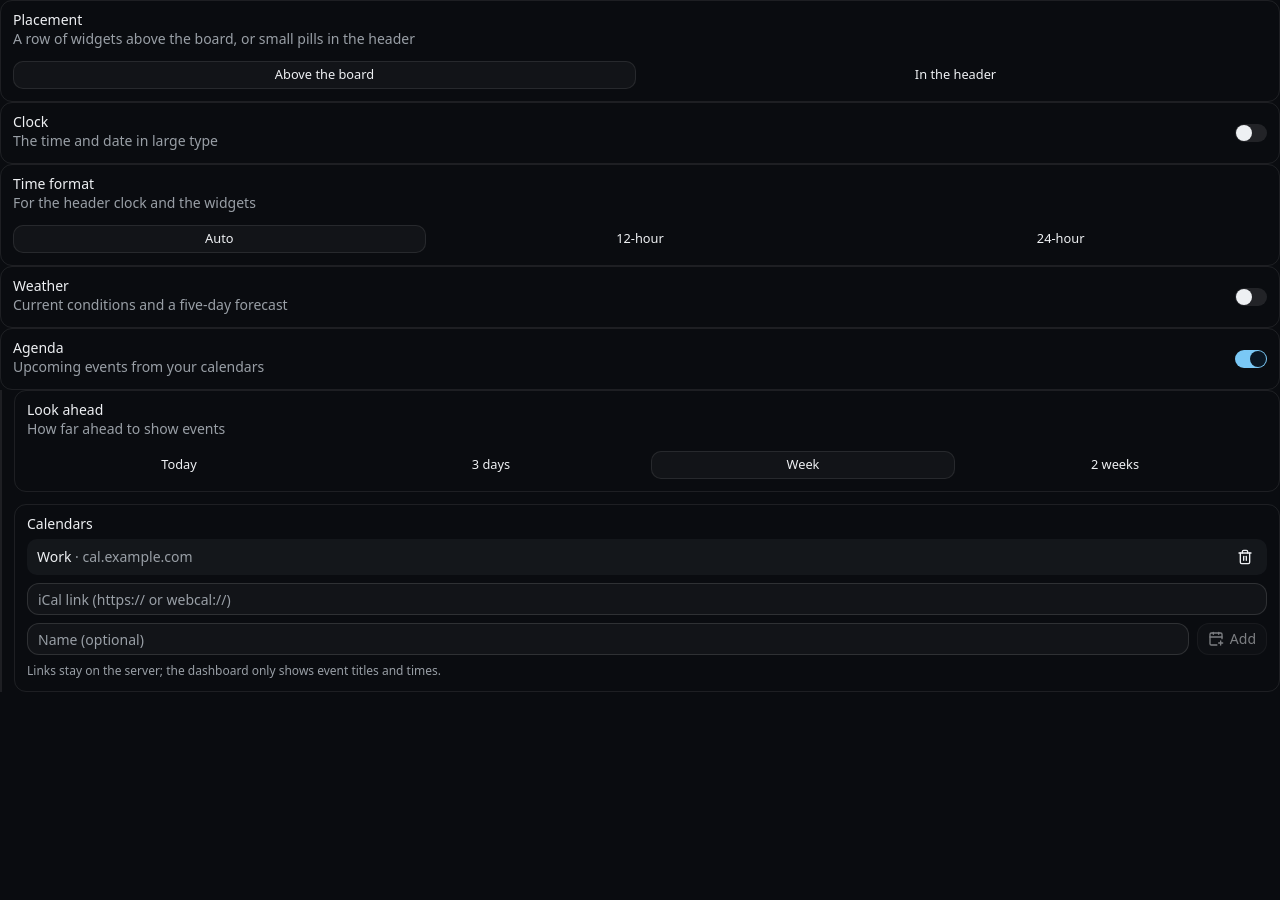
it: WidgetSettings › shows why a calendar couldn't be added
Type "https://cal.example.com/x.ics" into the field named "Calendar link" at (647, 599), box x1=27 y1=583 x2=1267 y2=615
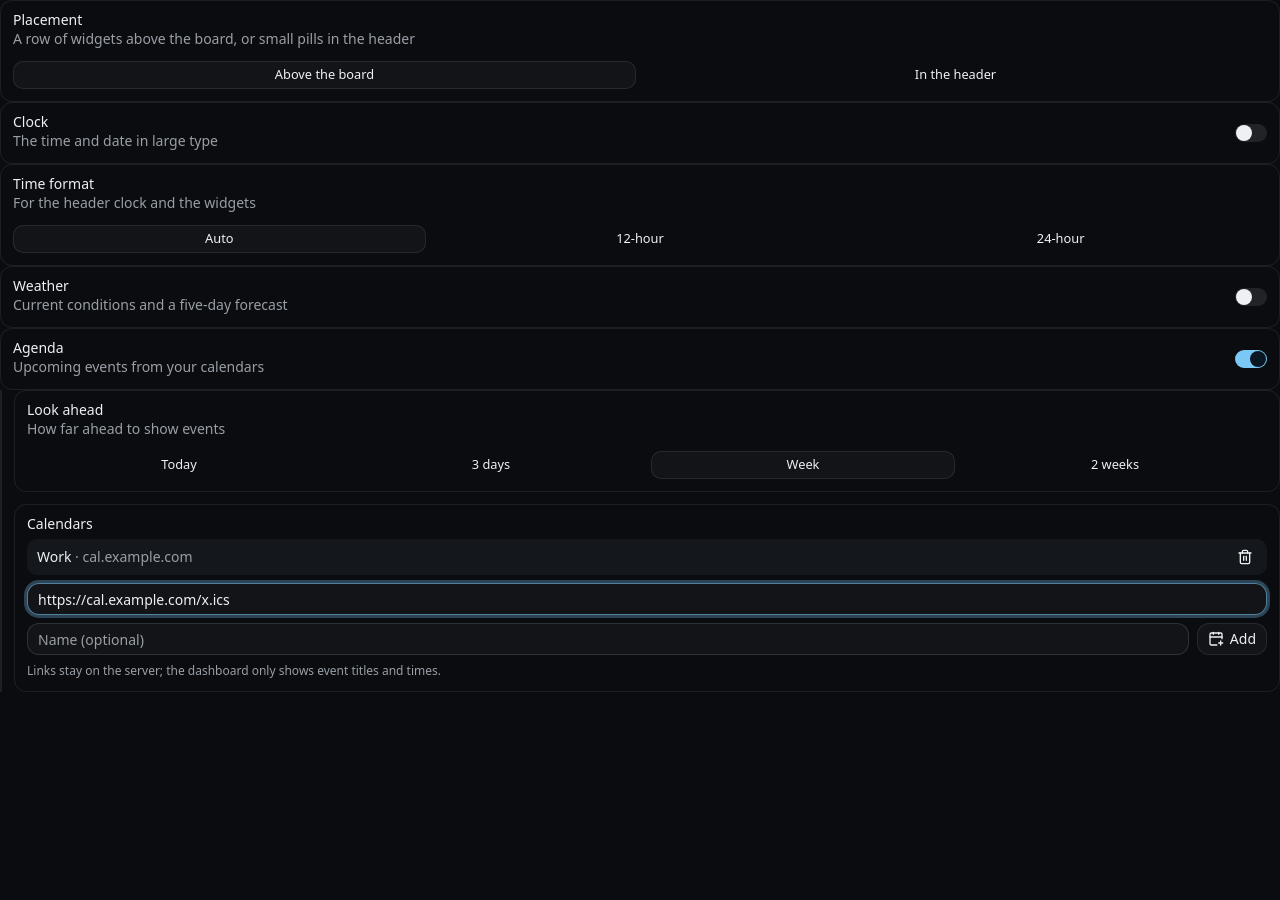
Click the button "Add" at (1232, 639), box x1=1197 y1=623 x2=1267 y2=655
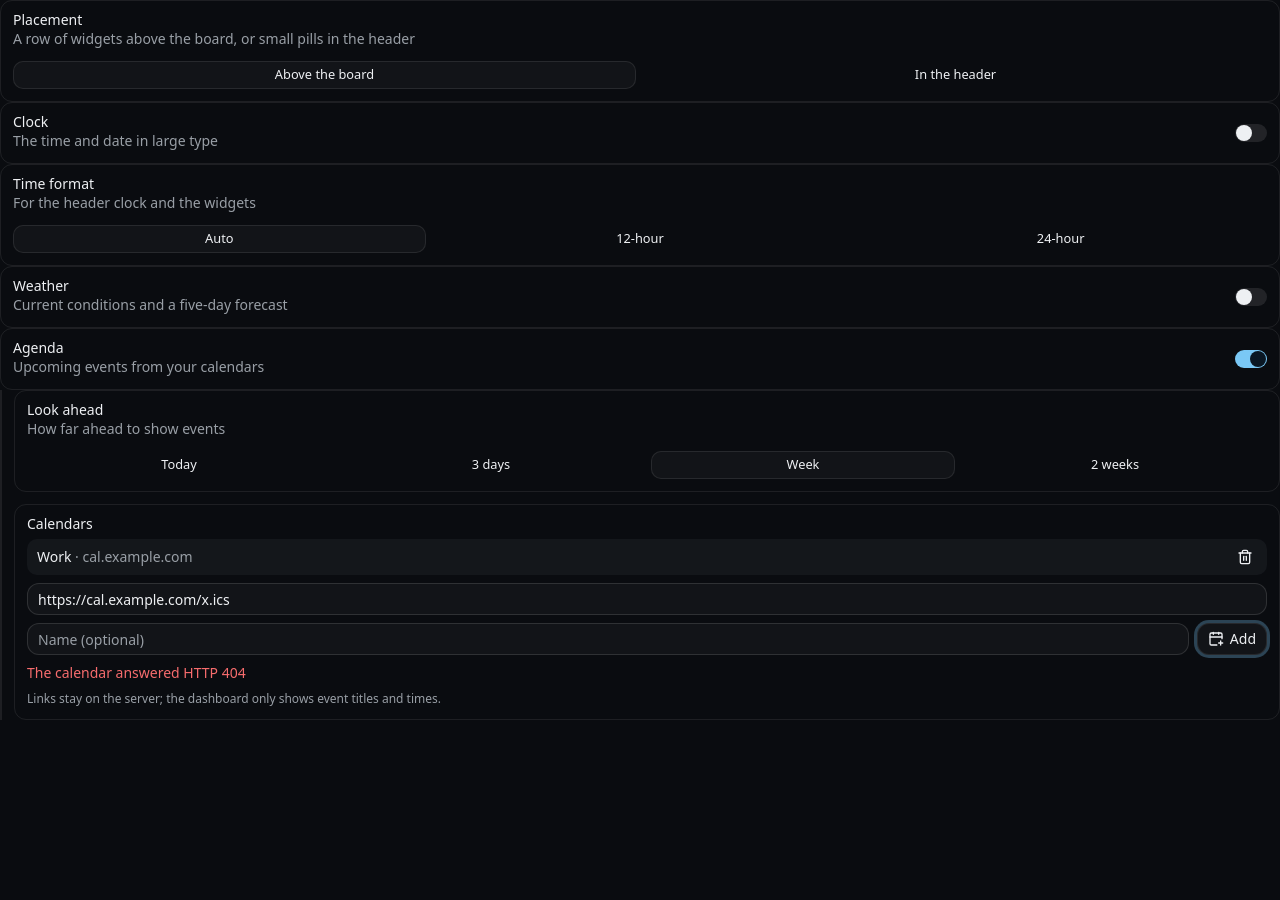
expect the message reads "The calendar answered HTTP 404": met, box x1=27 y1=663 x2=246 y2=682
